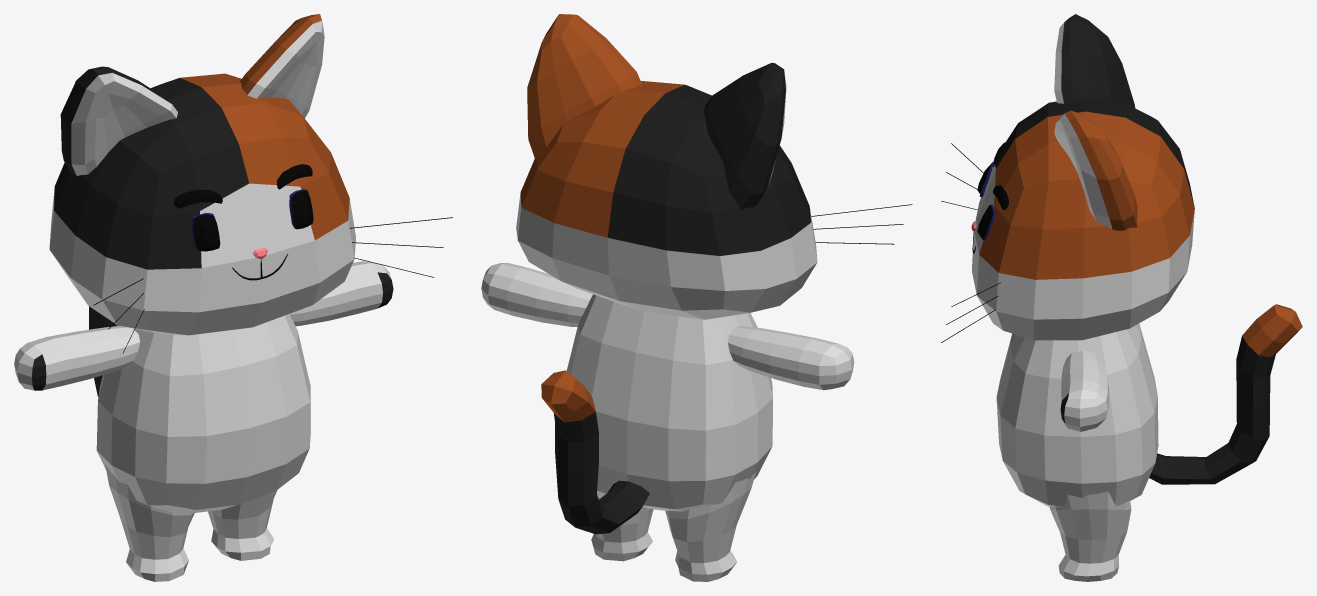
Rendered from cat.glb.
3 views of the same model, side by side, from view 1: azimuth 30°, elevation 25°; view 2: azimuth 150°, elevation 25°; view 3: azimuth 270°, elevation 25° (orthographic). The views are drawn at different scales.
Parts seen in each view (by area): view 1: cat; view 2: cat; view 3: cat.
Boxes of the visible parts, x1,y1,x2,y2 form: cat: (14, 14, 452, 581); cat: (481, 14, 912, 581); cat: (941, 14, 1302, 581).
Size of the model in its own units: 0.8986 by 1.2 by 0.8072.
